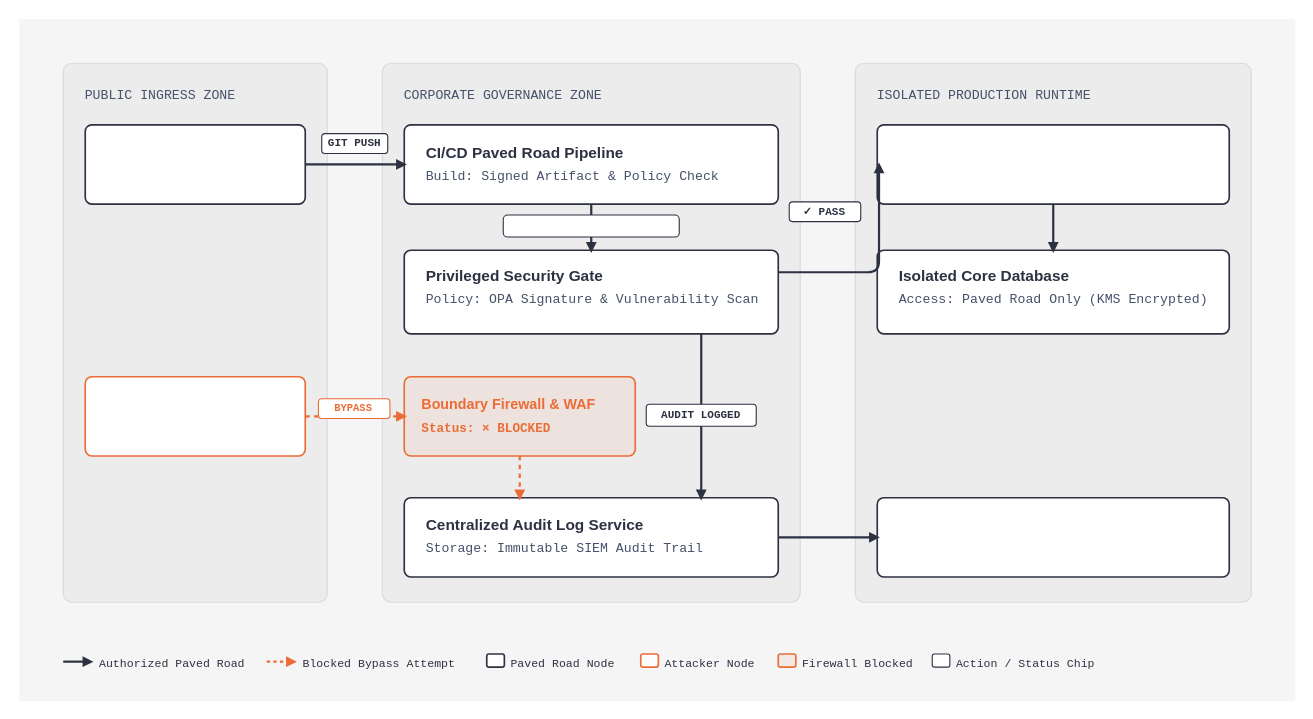
Image size: 1313x719. Some labels were removed from this diagram. The centre of each missing label's shape, as x and y in pixels:
"Developer Workstation Identity: dev_alice (mTLS)" belongs at point 195,164.
"Production API Gateway Status: ADMITTED [TLS 1.3 Strict]" belongs at point 1053,164.
"PROVENANCE [SIGNED]" belongs at point 590,225.
"Security Operations Center Monitoring: Real-time Alerting Active" belongs at point 1053,536.
"Unauthorized Attacker Bypass Attempt (No Key)" belongs at point 195,415.
